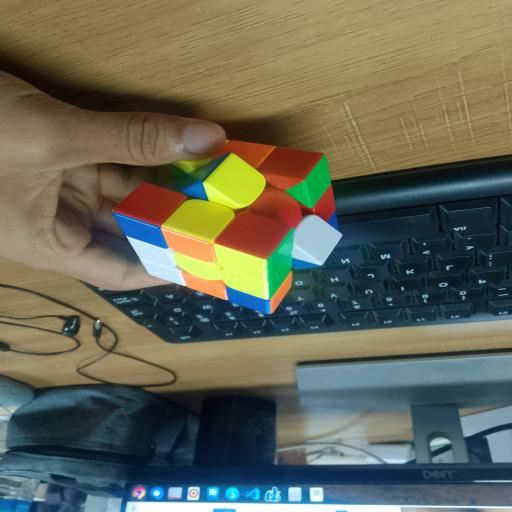cubic: (102, 129, 350, 323)
